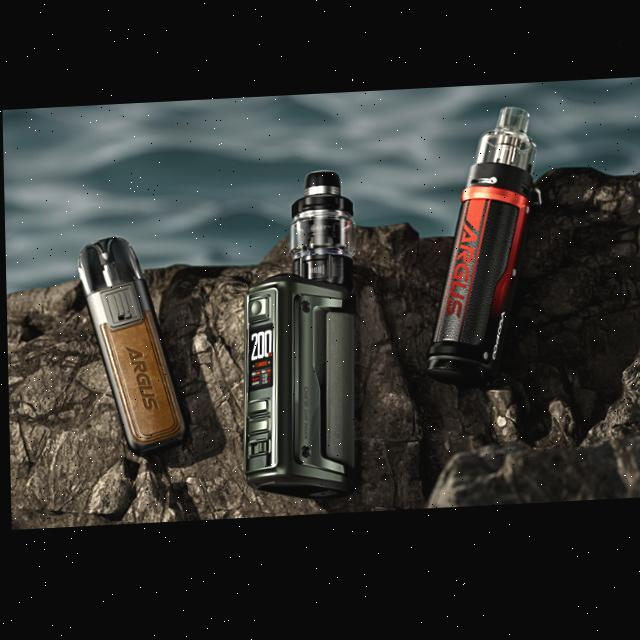vape: (237, 172, 360, 508), (416, 110, 541, 393), (75, 234, 189, 462)
